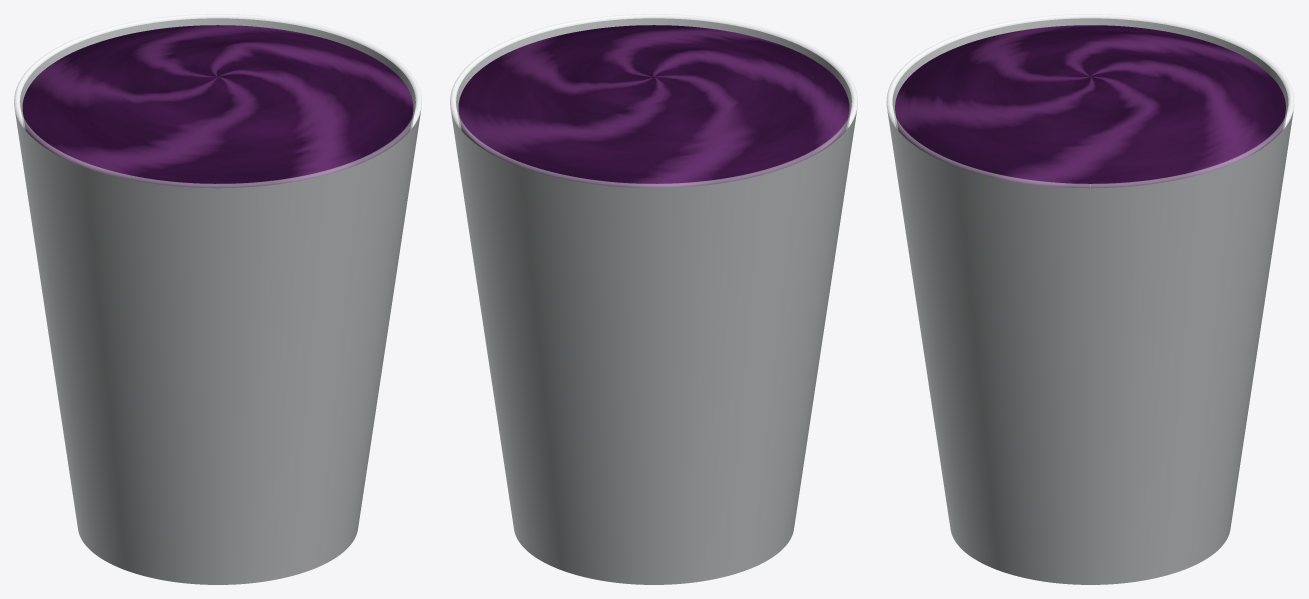
The model's file is acai-500.glb.
3 renders of one model, left to right at view 1: azimuth 30°, elevation 25°; view 2: azimuth 150°, elevation 25°; view 3: azimuth 270°, elevation 25°, orthographic.
Parts seen in each view (by area): view 1: acai-500_1, acai-500_0; view 2: acai-500_1, acai-500_0; view 3: acai-500_1, acai-500_0.
Boxes of the visible parts, <box> form: acai-500_1: <box>14,14,421,584</box>; acai-500_0: <box>22,25,413,188</box>; acai-500_1: <box>450,14,857,584</box>; acai-500_0: <box>458,25,849,188</box>; acai-500_1: <box>886,14,1294,584</box>; acai-500_0: <box>895,25,1285,188</box>.
Bounding box in the file's own units: 0.096 × 0.1165 × 0.096.
4 materials, 2 textured.
